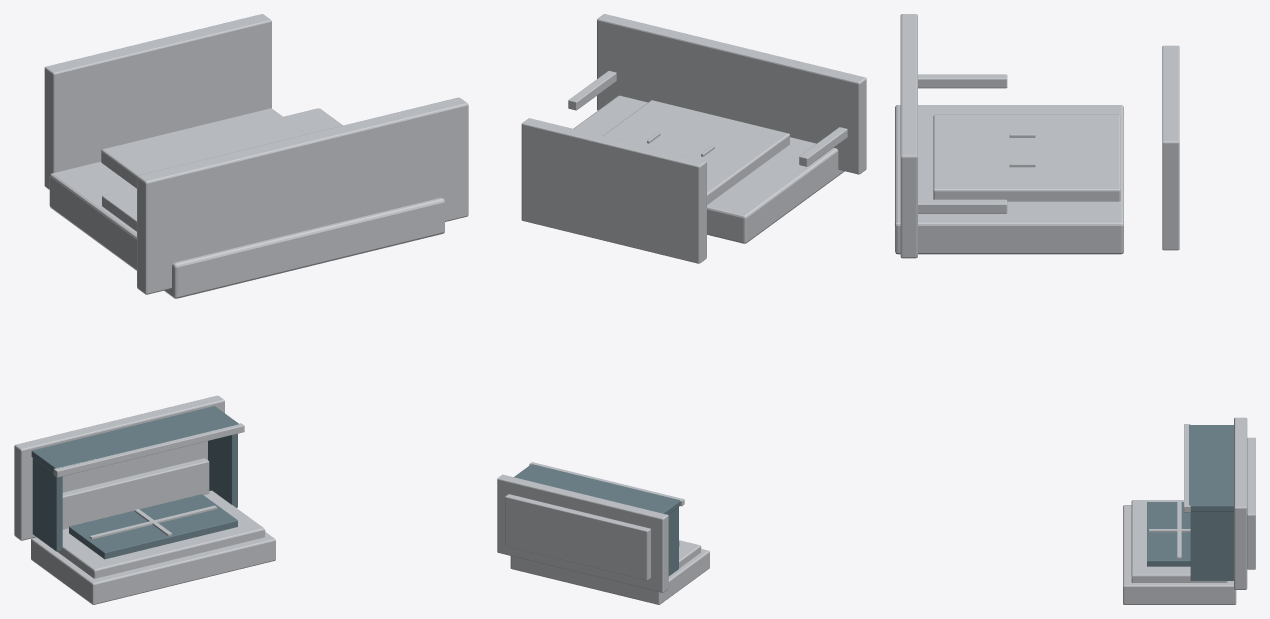
File: building-modules.glb
The picture shows the model from 3 angles, left to right: view 1: azimuth 30°, elevation 25°; view 2: azimuth 150°, elevation 25°; view 3: azimuth 270°, elevation 25°; orthographic projection. The views are drawn at different scales.
Visible parts, largest first — view 1: EntranceCanopy, EntranceStep, EntranceFrame, EntranceDoor, Niche, BalconyFloor, Sill, WindowGlass, BalconyFront, Frame, SideRailL, TopRail (+3 smaller); view 2: EntranceCanopy, EntranceStep, EntranceFrame, EntranceDoor, BalconyUnderside, BalconyFloor, Niche, BalconyFront, EntranceCanopyPostL, EntranceCanopyPostR, SideRailL; view 3: EntranceDoor, EntranceFrame, EntranceCanopy, BalconyFront, EntranceStep, Niche, SideRailR, WindowGlass, BalconyFloor, Frame, EntranceCanopyPostL, EntranceCanopyPostR (+1 smaller).
Boxes of the visible parts, <box> form: EntranceCanopy: <box>137,97,468,294</box>; EntranceStep: <box>44,14,271,189</box>; EntranceFrame: <box>49,108,444,298</box>; EntranceDoor: <box>101,108,306,188</box>; Niche: <box>31,532,275,604</box>; BalconyFloor: <box>14,395,224,540</box>; Sill: <box>62,458,209,529</box>; WindowGlass: <box>69,494,237,559</box>; BalconyFront: <box>31,406,238,472</box>; Frame: <box>57,490,264,578</box>; SideRailL: <box>32,458,62,551</box>; TopRail: <box>53,423,244,477</box>; EntranceCanopy: <box>597,14,866,174</box>; EntranceStep: <box>521,118,706,263</box>; EntranceFrame: <box>573,95,844,243</box>; EntranceDoor: <box>603,100,789,204</box>; BalconyUnderside: <box>505,494,650,580</box>; BalconyFloor: <box>497,474,668,592</box>; Niche: <box>510,549,709,604</box>; BalconyFront: <box>514,464,679,514</box>; EntranceCanopyPostL: <box>799,127,847,166</box>; EntranceCanopyPostR: <box>568,71,616,110</box>; SideRailL: <box>668,507,678,576</box>; EntranceDoor: <box>933,114,1120,201</box>; EntranceFrame: <box>895,105,1123,254</box>; EntranceCanopy: <box>900,14,917,258</box>; BalconyFront: <box>1189,425,1233,511</box>; EntranceStep: <box>1162,45,1179,250</box>; Niche: <box>1123,505,1236,604</box>; SideRailR: <box>1190,511,1233,580</box>; WindowGlass: <box>1147,502,1190,566</box>; BalconyFloor: <box>1234,417,1247,589</box>; Frame: <box>1131,500,1227,582</box>; EntranceCanopyPostL: <box>918,74,1007,88</box>; EntranceCanopyPostR: <box>918,199,1007,213</box>.
Size of the model in its own units: 1.55 by 2.43 by 1.65.
